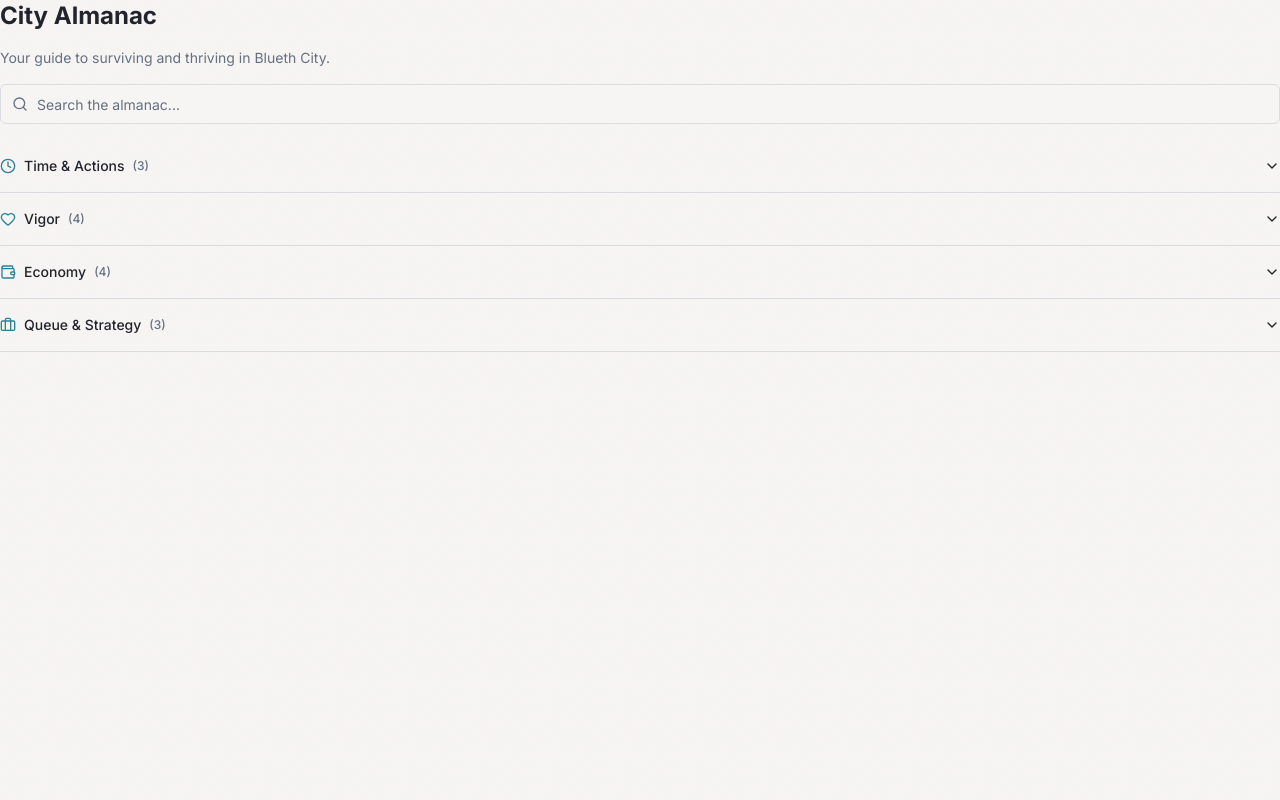
Test: AlmanacPage › filters entries by search query
Type "circadian" — only matches the Time & Actions category
Type "circadian" into the search field with placeholder "Search the almanac...".
click(640, 104); type("circadian")  # box [0,84,1279,124]
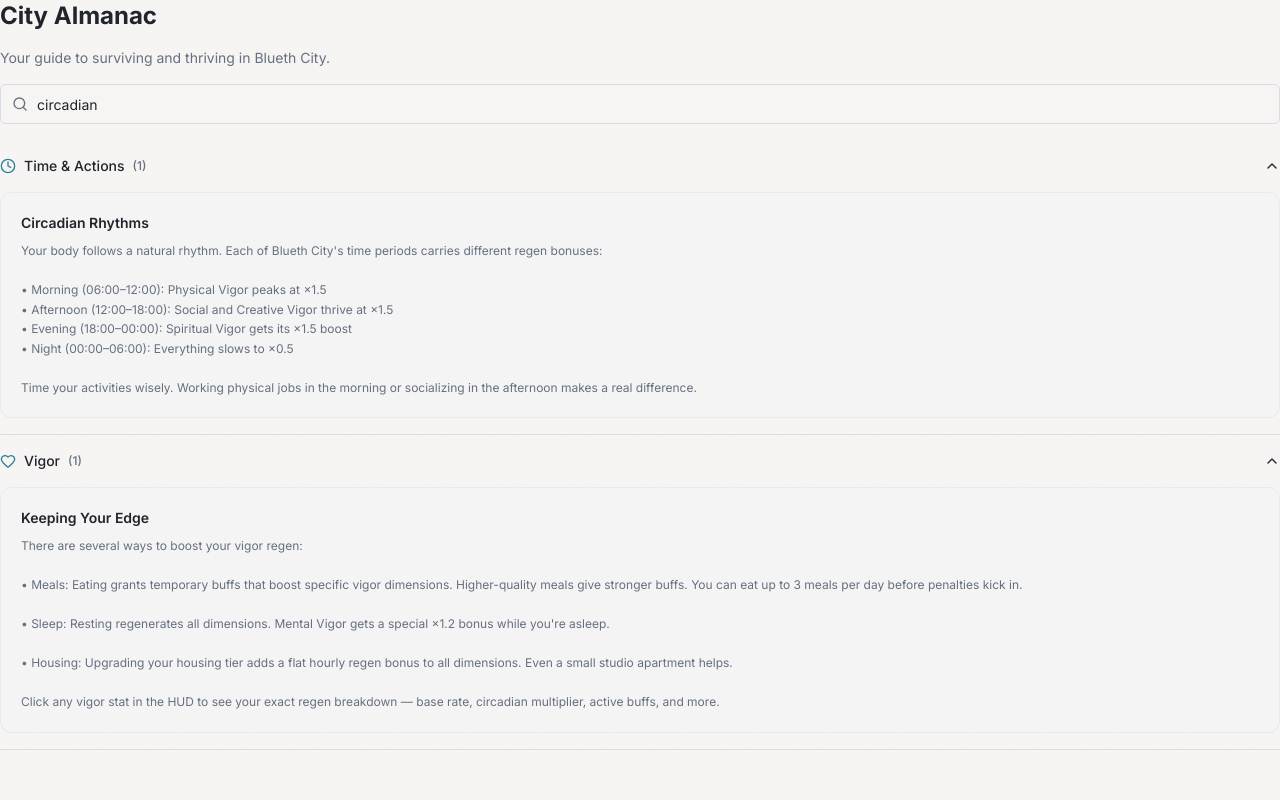
Expected: the text "Time & Actions" is shown, [24,157,124,174]
Expected: the button "Economy" is gone
